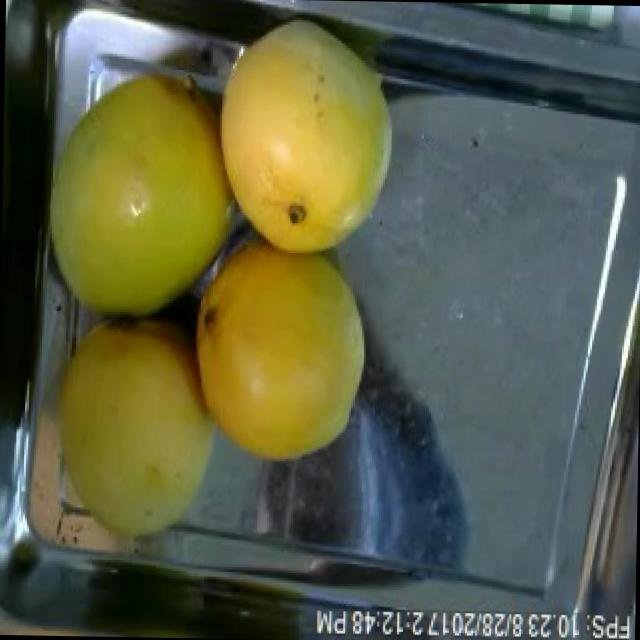fruit: (28, 44, 258, 338), (190, 2, 414, 272), (22, 303, 236, 556), (176, 224, 382, 475)
